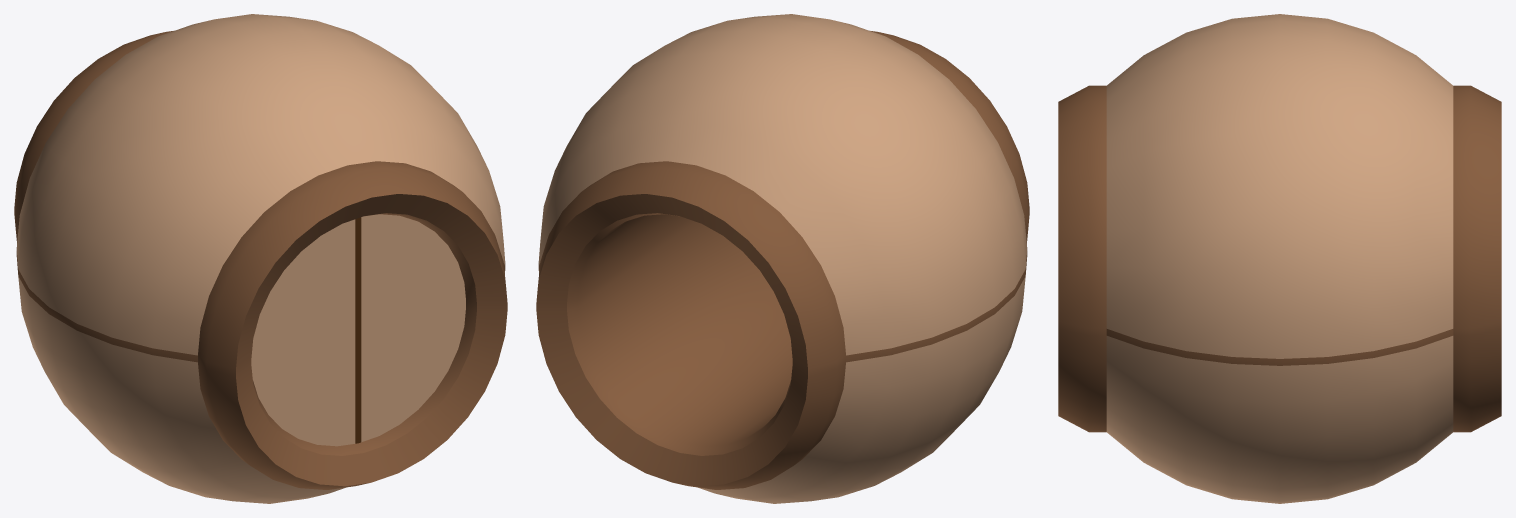
File: quaternius-ultimate-space-house-openback.glb
The picture shows the model from 3 angles, left to right: view 1: azimuth 30°, elevation 25°; view 2: azimuth 150°, elevation 25°; view 3: azimuth 270°, elevation 25°; orthographic projection.
Visible parts, largest first — view 1: House_OpenBack; view 2: House_OpenBack; view 3: House_OpenBack.
Part boxes in pixels (x1,y1,x2,y2): House_OpenBack: (14,14,507,503); House_OpenBack: (536,14,1029,503); House_OpenBack: (1058,14,1501,503).
Bounding box in the file's own units: 3.99 × 4 × 3.61.
1 material, 1 textured.
